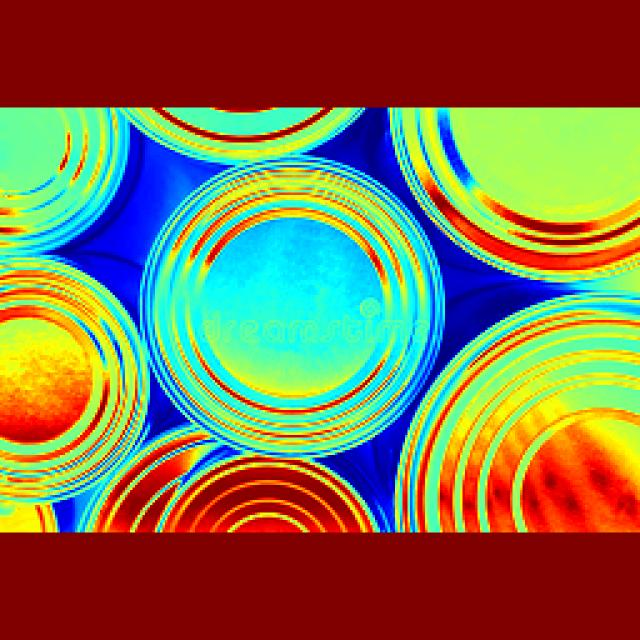Aluminium Food Cans: (146, 155, 441, 455), (406, 278, 631, 548), (398, 109, 640, 277), (0, 250, 145, 505)
